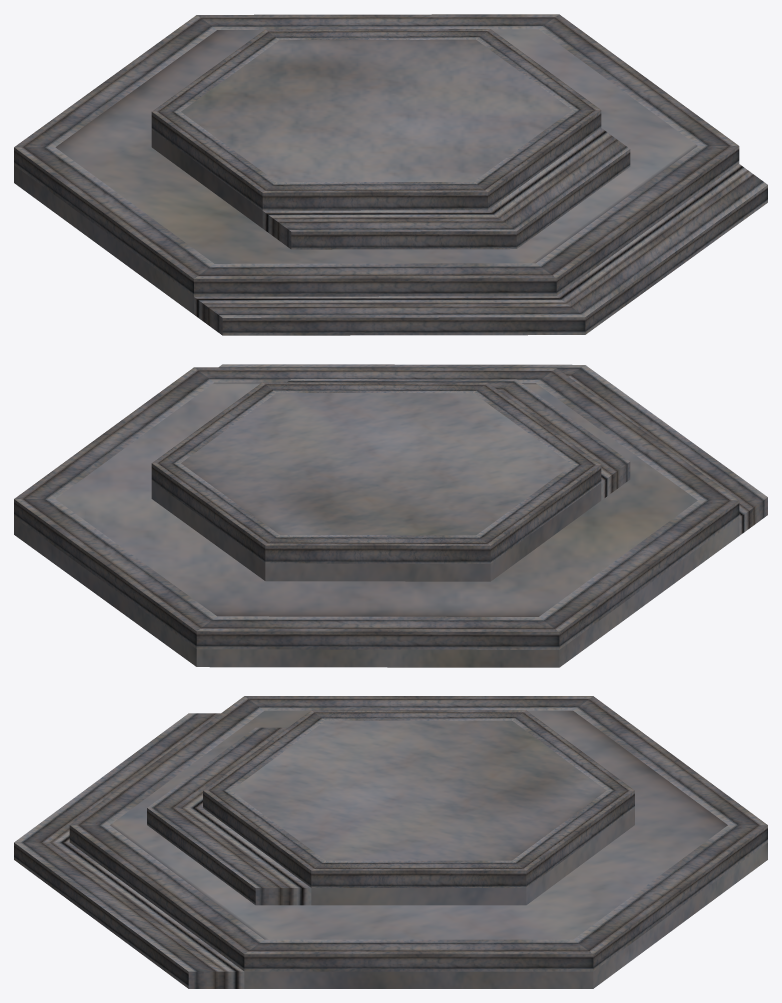
The model's file is pedestal_01.fbx.
3 renders of one model, top to bottom at view 1: azimuth 30°, elevation 25°; view 2: azimuth 150°, elevation 25°; view 3: azimuth 270°, elevation 25°, orthographic. The views are drawn at different scales.
Parts seen in each view (by area): view 1: pedestal_01; view 2: pedestal_01; view 3: pedestal_01.
Part boxes in pixels (left/top/right/bottom): pedestal_01: left=14, top=14, right=767, bottom=335; pedestal_01: left=14, top=364, right=767, bottom=667; pedestal_01: left=14, top=696, right=767, bottom=988.
Bounding box in the file's own units: 800 × 100 × 987.
